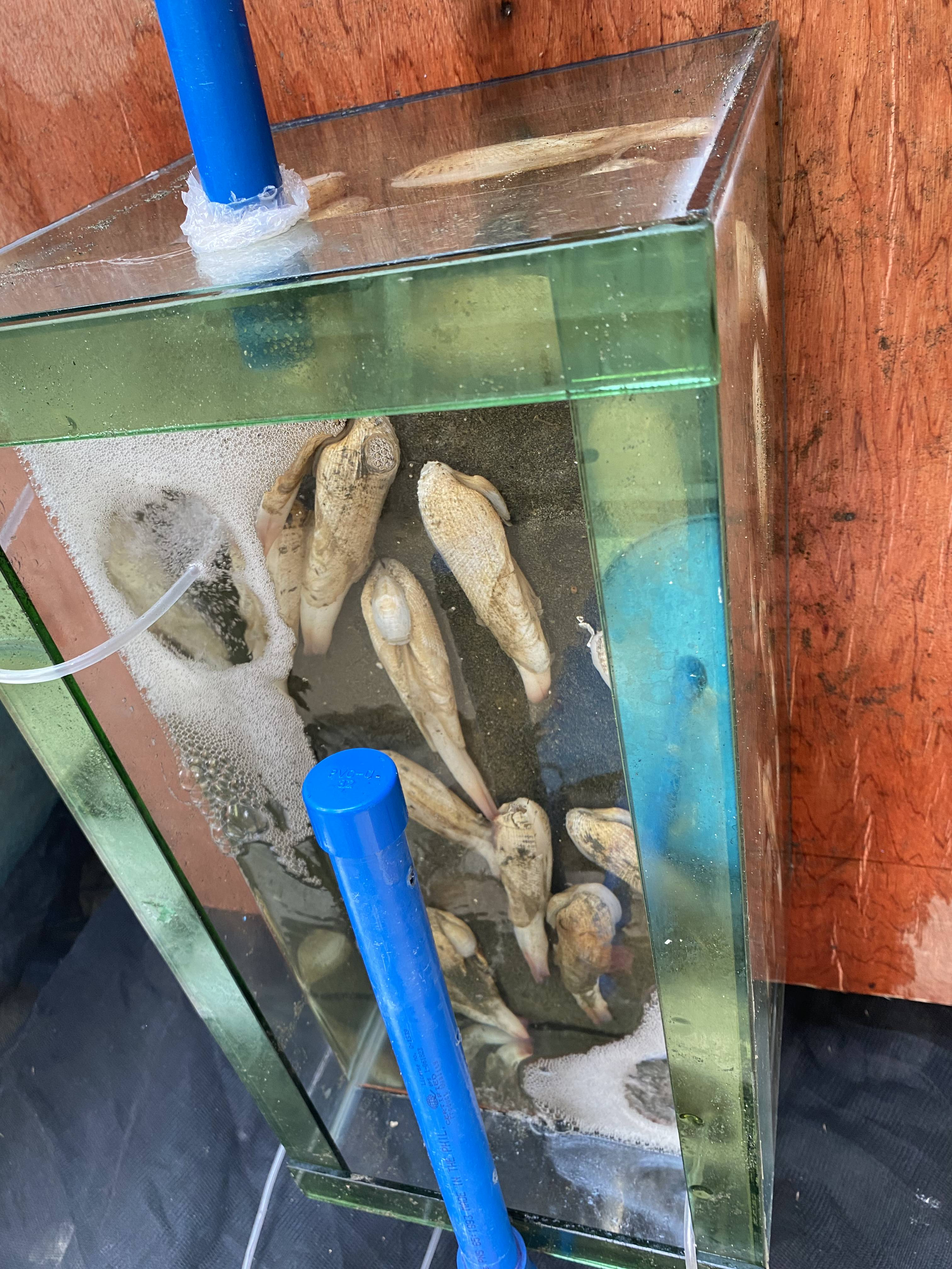Healthy: (427, 908, 529, 1042), (492, 798, 552, 982), (548, 884, 618, 1024), (491, 557, 550, 702), (428, 716, 497, 821), (301, 587, 348, 654), (599, 954, 601, 957)
